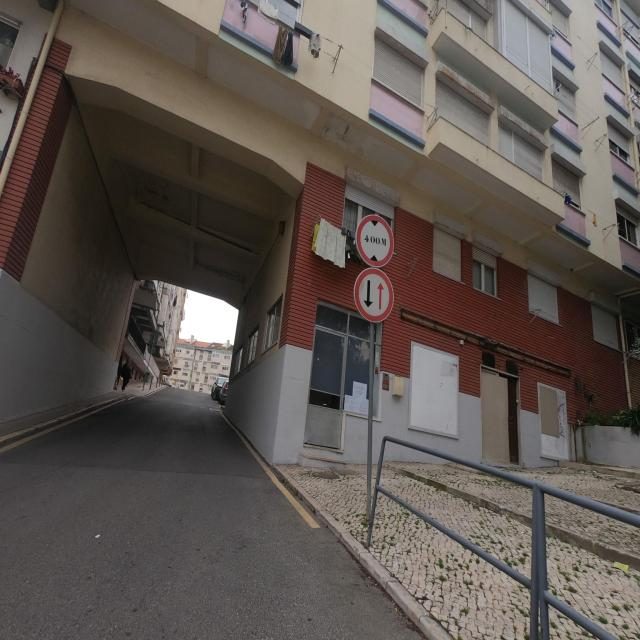car: (210, 376, 228, 401), (218, 379, 229, 405)
